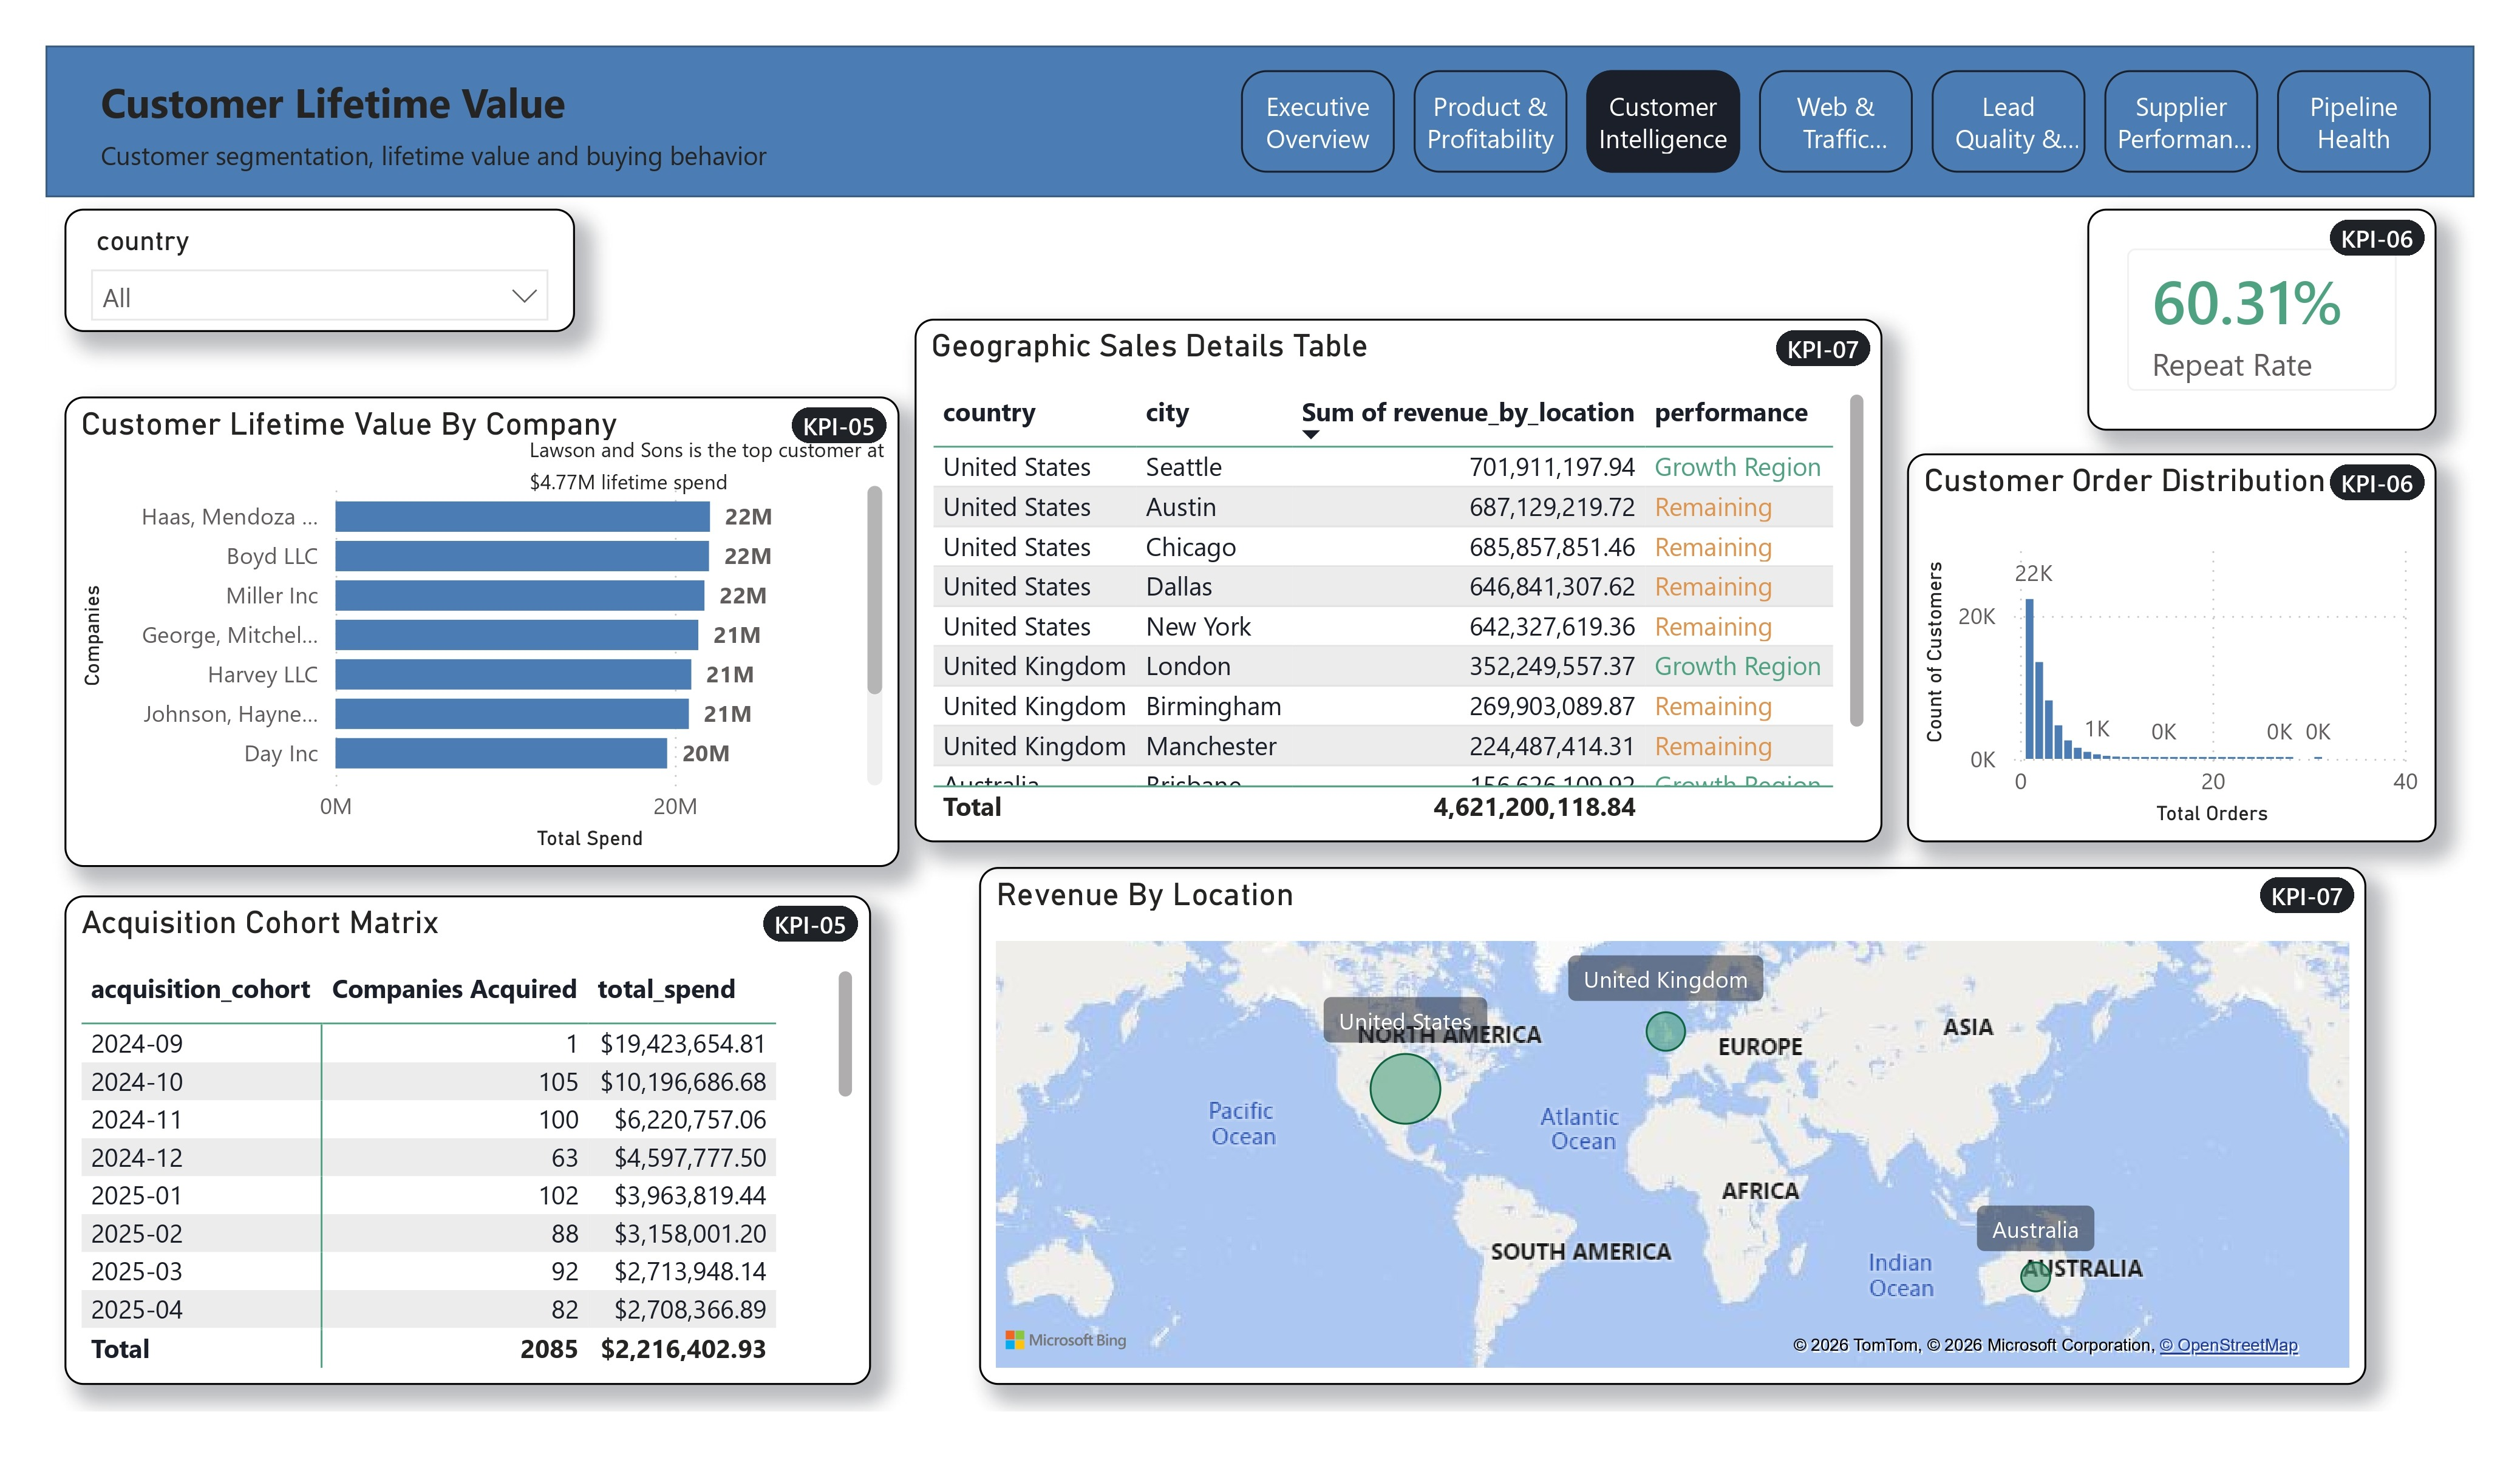

What the dashboard file says about the page in this screenshot:
{"tool":"powerbi","page":{"name":"Customer Intelligence","canvas":[1280,720],"ordinal":2},"visuals":[{"type":"shape","box":[0,0,1280,80],"z":0},{"type":"barChart","title":"Customer Lifetime Value By Company","fields":{"Category":["marts vw_customer_lifetime_value.company_name"],"Y":["Sum(marts vw_customer_lifetime_value.total_spend)"]},"box":[10.5,184.9,439.5,247.7],"z":1000},{"type":"pivotTable","title":"Acquisition Cohort Matrix","fields":{"Rows":["marts vw_customer_lifetime_value.acquisition_cohort"],"Values":["CountNonNull(marts vw_customer_lifetime_value.company_name)","Avg(marts vw_customer_lifetime_value.total_spend)"]},"box":[10.5,447.7,424.4,258.1],"z":2000},{"type":"cardVisual","fields":{"Data":["Measure.Repeat Rate"]},"box":[1075.6,86,184.9,117.4],"z":3000},{"type":"clusteredColumnChart","title":"Customer Order Distribution","fields":{"Category":["marts vw_customer_activity.total_orders (bins)"],"Y":["CountNonNull(marts vw_customer_activity.customer_key)"]},"box":[981.4,215.1,279.1,204.7],"z":4000},{"type":"map","title":"Revenue By Location","fields":{"Category":["marts vw_geographic_sales.country","marts vw_geographic_sales.city"],"Size":["Sum(marts vw_geographic_sales.revenue_by_location)"]},"box":[491.9,432.6,731.4,273.3],"z":5000},{"type":"tableEx","title":"Geographic Sales Details Table","fields":{"Values":["marts vw_geographic_sales.country","marts vw_geographic_sales.city","Sum(marts vw_geographic_sales.revenue_by_location)","marts vw_geographic_sales.performance"]},"box":[458.1,144.2,510.3,275.6],"z":6000},{"type":"textbox","box":[24.4,10.5,564,41.9],"z":7000},{"type":"textbox","box":[24.4,44.2,550,36],"z":8000},{"type":"pageNavigator","box":[630.2,12.8,630.2,54.7],"z":9000},{"type":"textbox","box":[250,197.7,200,48.8],"z":10000},{"type":"slicer","fields":{"Values":["marts vw_customer_lifetime_value.country"]},"box":[10.5,86,269,64.9],"z":11000}]}

Visuals, with their boxes in screenshot pixels (x1, y1, x2, y2):
shape: left=52, top=39, right=2450, bottom=189
"Customer Lifetime Value By Company" barChart: left=72, top=385, right=895, bottom=849
"Acquisition Cohort Matrix" pivotTable: left=72, top=878, right=867, bottom=1361
cardVisual - Measure.Repeat Rate: left=2067, top=200, right=2413, bottom=420
"Customer Order Distribution" clusteredColumnChart: left=1890, top=442, right=2413, bottom=826
"Revenue By Location" map: left=973, top=849, right=2343, bottom=1361
"Geographic Sales Details Table" tableEx: left=910, top=310, right=1866, bottom=826
textbox: left=98, top=59, right=1154, bottom=137
textbox: left=98, top=122, right=1128, bottom=189
pageNavigator: left=1233, top=63, right=2413, bottom=166
textbox: left=520, top=410, right=895, bottom=501
slicer - marts vw_customer_lifetime_value.country: left=72, top=200, right=576, bottom=322
